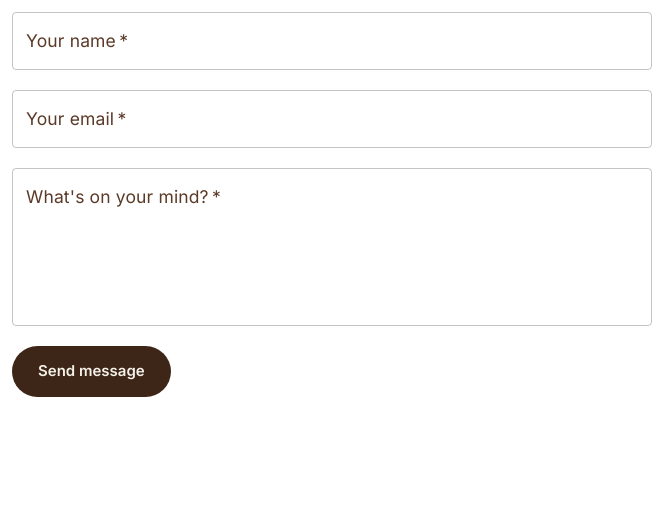
Test: ContactForm › renders per-field errors returned from the server
Step 1. Type "Recruiter" into the field labelled "Your name *" → {"x": 332, "y": 41}, box [12,12,652,70]
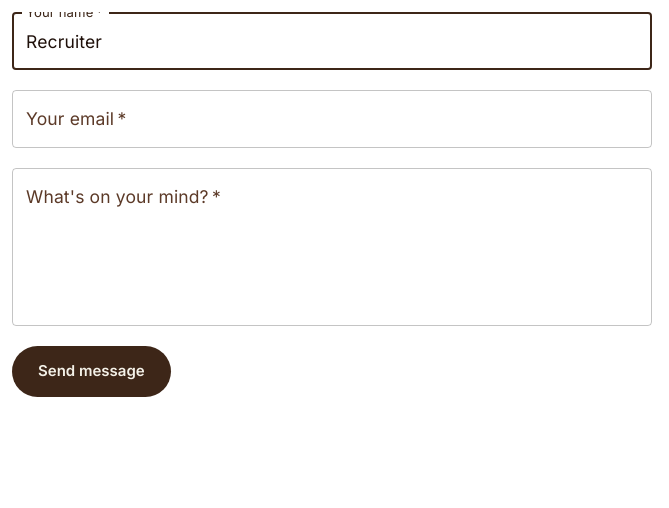
Step 2. Type "recruiter@example.com" into the field labelled "Your email *" → {"x": 332, "y": 119}, box [12,90,652,148]
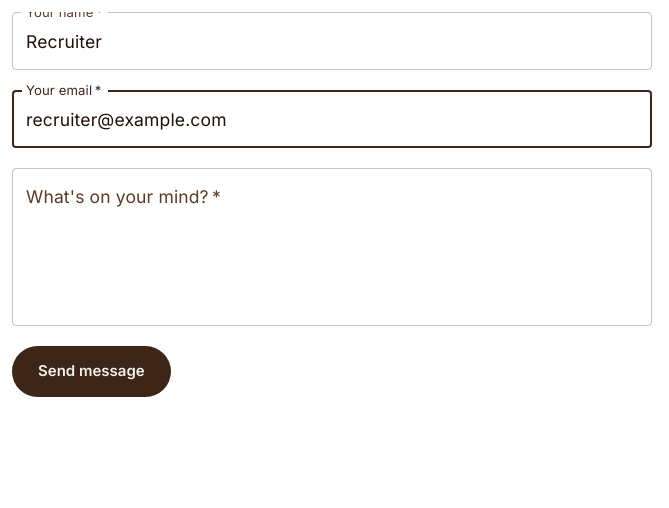
Step 3. Type "We have an opportunity that fits your background." into the text box labelled "What's on your mind? *" → {"x": 332, "y": 247}, box [26,185,638,310]
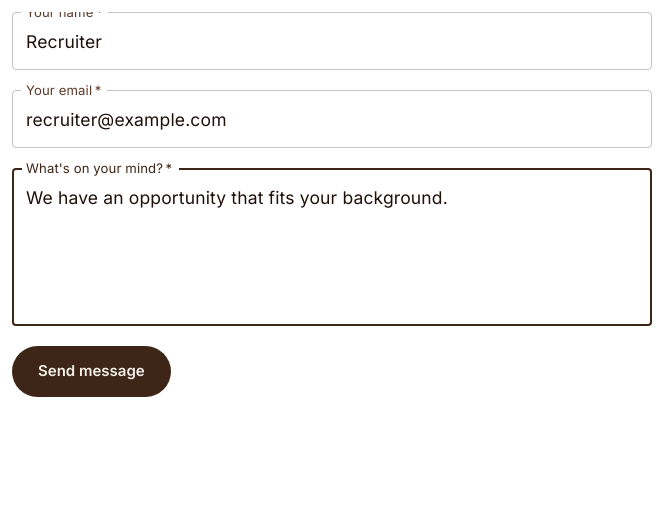
Step 4. Click the button "Send message" → {"x": 91, "y": 371}, box [12,346,171,397]
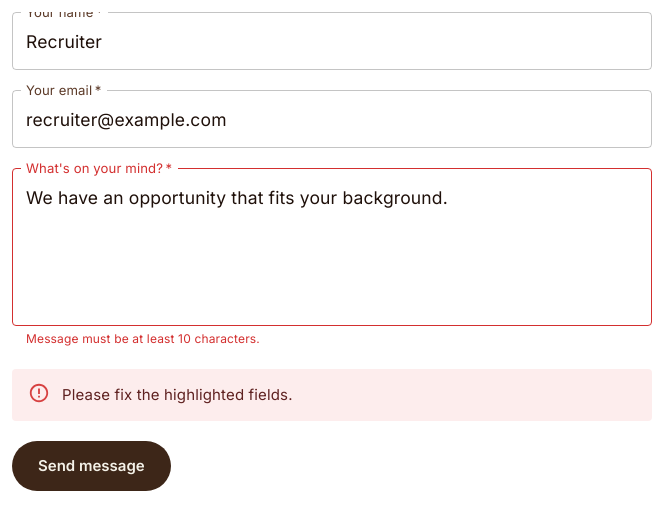
Check: the text "Message must be at least 10 characters." is shown, box [26,331,260,346]
